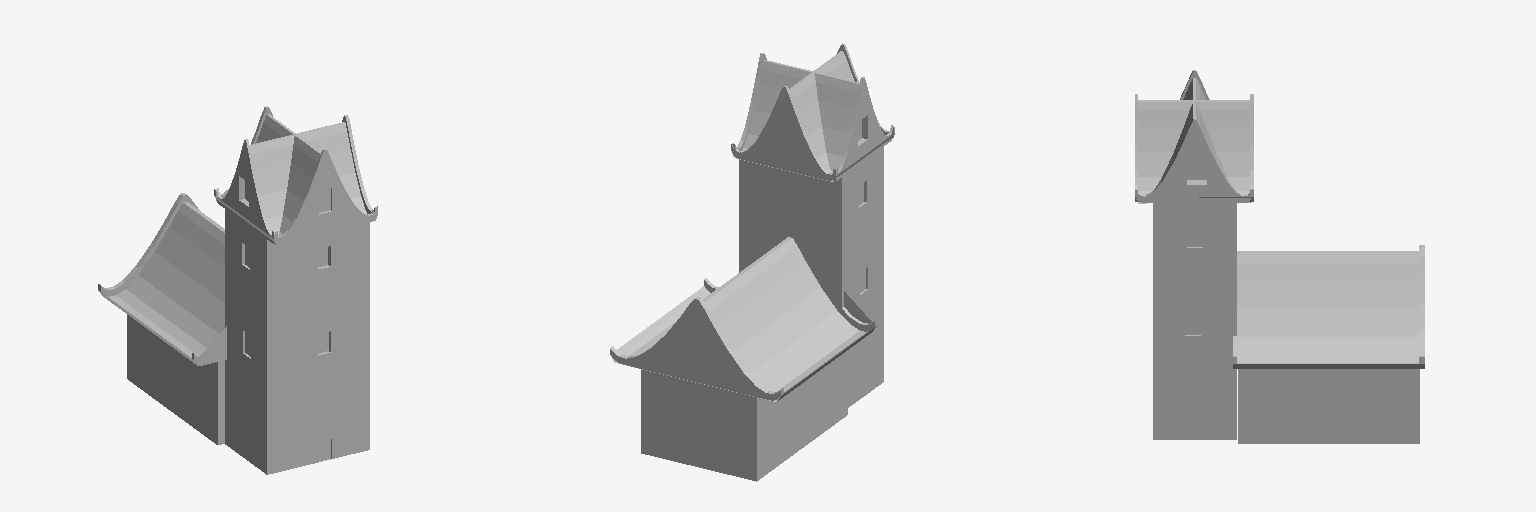
File: haus2.obj
3 views of the same model, side by side, from view 1: azimuth 30°, elevation 25°; view 2: azimuth 150°, elevation 25°; view 3: azimuth 270°, elevation 25° (orthographic).
Visible parts, largest first — view 1: Box002, Arc002, Arc004, Box001, Arc003; view 2: Arc002, Box002, Box001, Arc004, Arc003; view 3: Arc002, Box002, Box001, Arc003, Arc004.
Boxes of the visible parts, box(x1,y1,x2,y2) form: Box002: box(225, 209, 369, 474); Arc002: box(98, 193, 226, 365); Arc004: box(216, 115, 377, 243); Box001: box(127, 315, 224, 444); Arc003: box(214, 106, 377, 244); Arc002: box(610, 237, 876, 401); Box002: box(739, 147, 883, 407); Box001: box(641, 350, 847, 481); Arc004: box(732, 53, 893, 180); Arc003: box(731, 43, 894, 181); Arc002: box(1233, 245, 1424, 368); Box002: box(1153, 203, 1236, 439); Box001: box(1238, 369, 1419, 443); Arc003: box(1135, 94, 1253, 201); Arc004: box(1135, 70, 1252, 203).
Size of the model in its own units: 745 by 1336 by 1099.